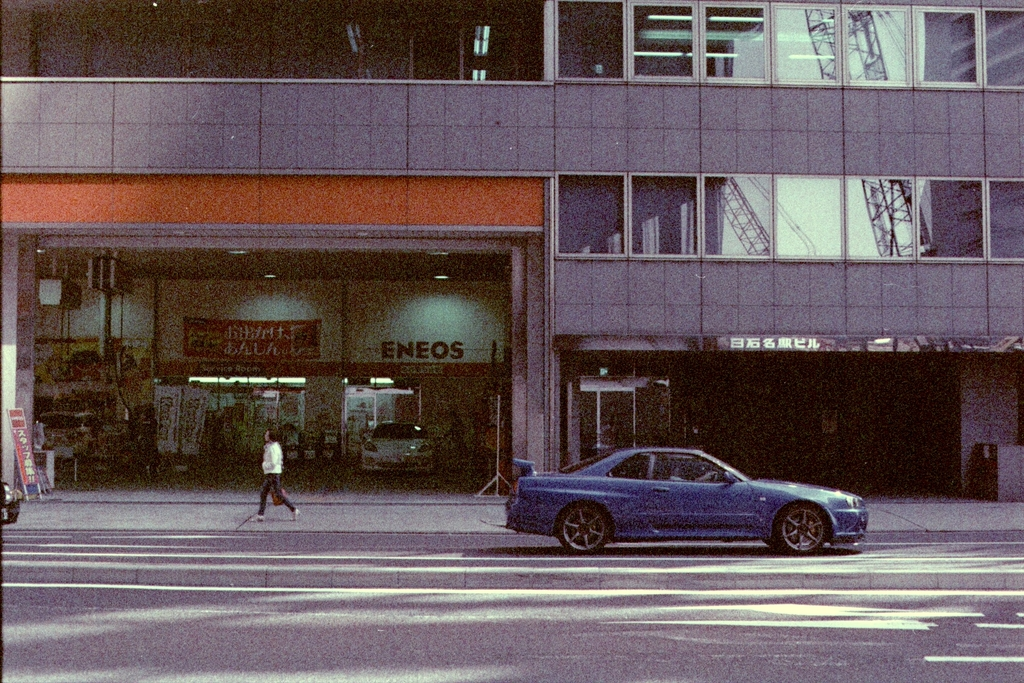Car: (496, 439, 867, 557), (0, 482, 20, 522)
